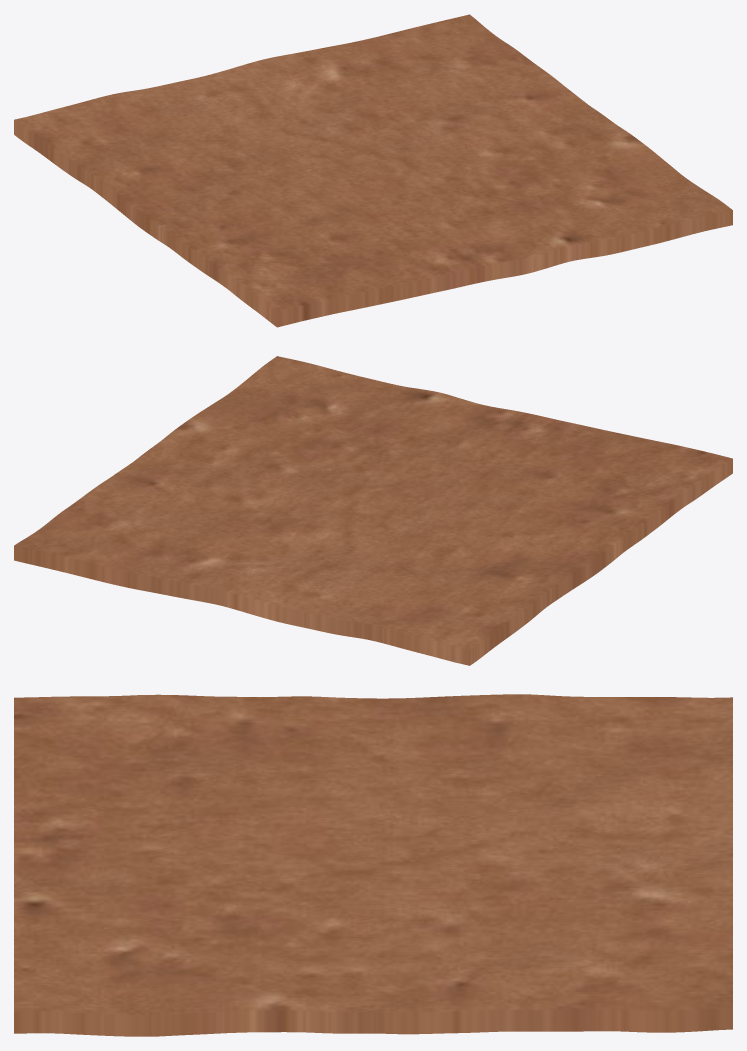
3 views of the same model, one above another, from view 1: azimuth 30°, elevation 25°; view 2: azimuth 150°, elevation 25°; view 3: azimuth 270°, elevation 25° (orthographic). The views are drawn at different scales.
Visible parts, largest first — view 1: L8_118_91; view 2: L8_118_91; view 3: L8_118_91.
Part boxes in pixels (<box>): L8_118_91: <box>14,14,732,327</box>; L8_118_91: <box>14,356,732,665</box>; L8_118_91: <box>14,694,732,1036</box>.
Bounding box in the file's own units: 56.27 × 3.35 × 56.28.
1 material, 1 textured.
